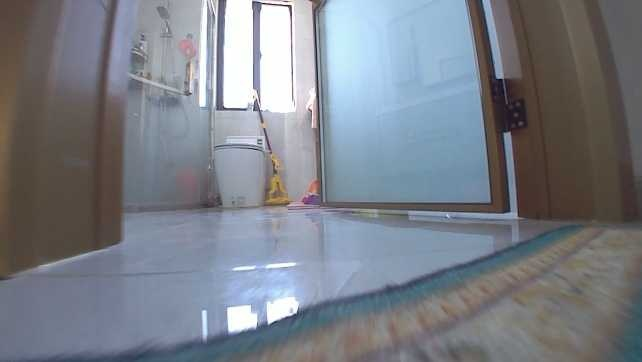blanket: (45, 220, 641, 360)
door_anno: (310, 0, 512, 215)
toilet: (210, 131, 271, 210)
